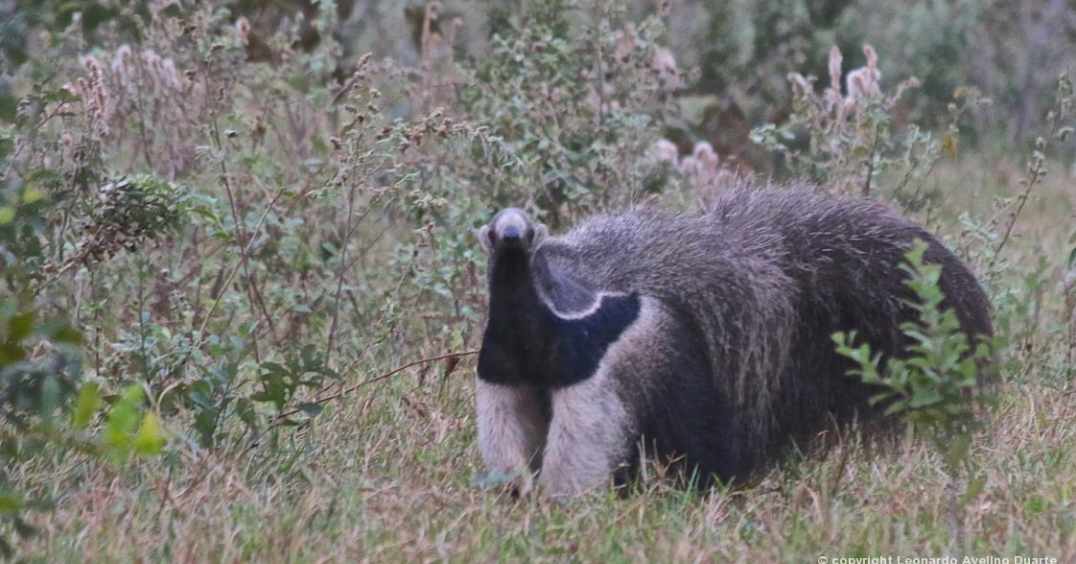TamanduaBandeira: (463, 173, 1003, 500)
